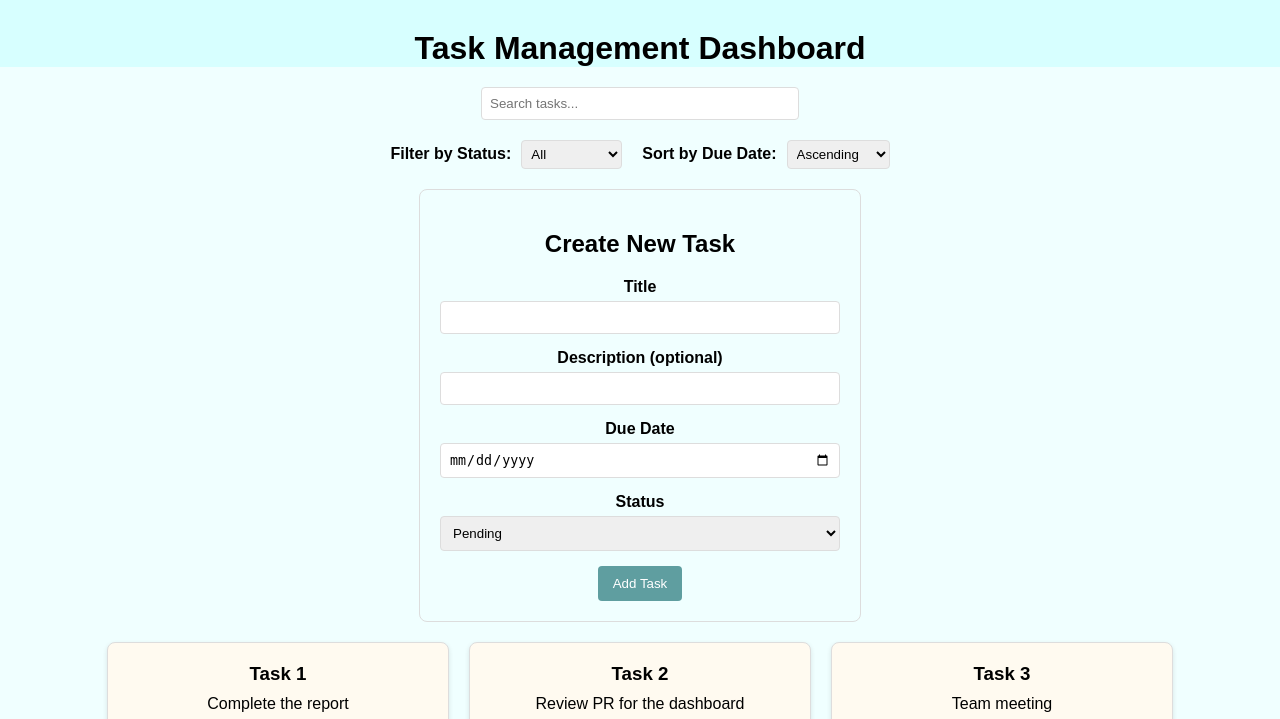
it: filters tasks by status
Select "Completed" in the dropdown labelled "Filter by Status:" at (572, 154), box [521,140,622,169]
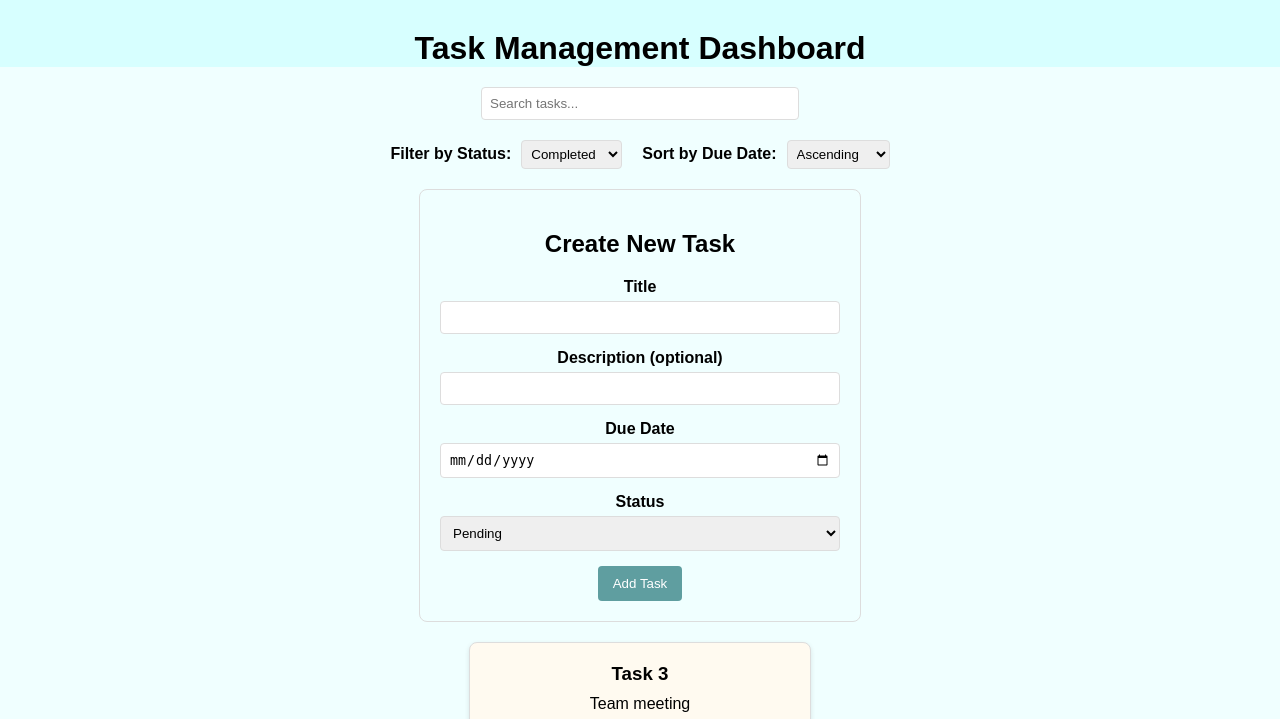
Expected: the heading "Task 3" is shown, [612,663,668,684]
Now the heading "Task 1" is gone
